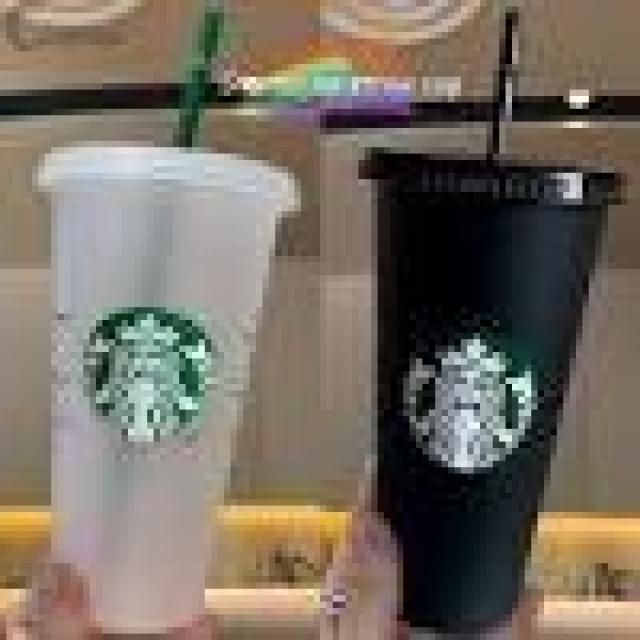bottle: (26, 144, 300, 637), (352, 141, 614, 640)
